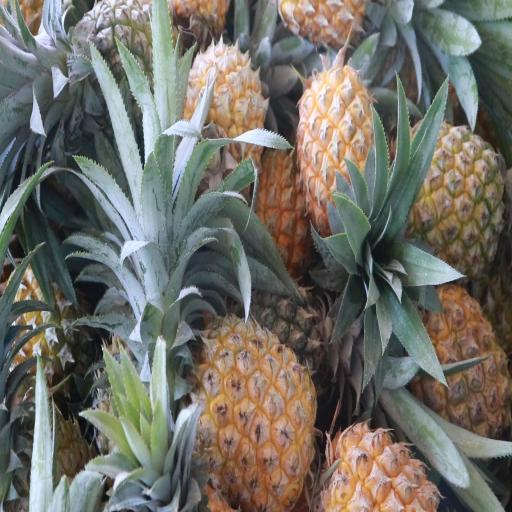Pineapple - v8 v1: (197, 317, 315, 511), (410, 280, 512, 440), (406, 128, 504, 283), (297, 68, 380, 234), (182, 44, 264, 178)
